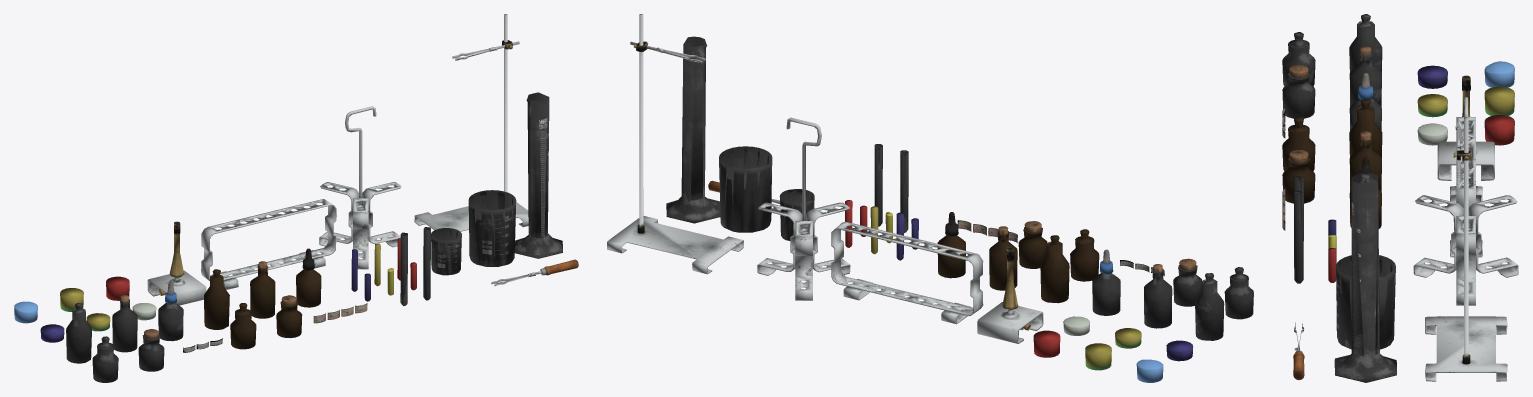
Rendered from chemistry_set.glb.
3 renders of one model, left to right at view 1: azimuth 30°, elevation 25°; view 2: azimuth 150°, elevation 25°; view 3: azimuth 270°, elevation 25°, orthographic. The views are drawn at different scales.
Parts seen in each view (by area): view 1: chemistry_set_beaker_large, chemistry_set_beaker_med, chemistry_set_test_tube_stand_b, chemistry_set_test_tube_stand_a, chemistry_set_clamp_stand, chemistry_set_bunsen_burner, chemistry_set_beaker_small, chemistry_set_bottle_clear_c, chemistry_set_bottle_dark_c, chemistry_set_bottle_clear_d, chemistry_set_bottle_dark_d, chemistry_set_bottle_clear_e (+11 smaller); view 2: chemistry_set_beaker_large, chemistry_set_clamp_stand, chemistry_set_beaker_med, chemistry_set_test_tube_stand_a, chemistry_set_test_tube_stand_b, chemistry_set_bunsen_burner, chemistry_set_bottle_clear_c, chemistry_set_bottle_dark_c, chemistry_set_bottle_clear_d, chemistry_set_bottle_dark_d, chemistry_set_bottle_clear_e, chemistry_set_bottle_clear_a (+10 smaller); view 3: chemistry_set_beaker_large, chemistry_set_clamp_stand, chemistry_set_test_tube_stand_b, chemistry_set_beaker_med, chemistry_set_bunsen_burner, chemistry_set_test_tube_stand_a, chemistry_set_bottle_clear_b, chemistry_set_bottle_clear_d, chemistry_set_bottle_dark_c, chemistry_set_bottle_clear_c, chemistry_set_bottle_dark_b, chemistry_set_test_tube_a (+16 smaller).
Part boxes in pixels (x1,y1,x2,y2): chemistry_set_beaker_large: [515, 92, 562, 258]; chemistry_set_beaker_med: [468, 190, 516, 266]; chemistry_set_test_tube_stand_b: [319, 106, 401, 269]; chemistry_set_test_tube_stand_a: [201, 199, 336, 289]; chemistry_set_clamp_stand: [414, 14, 528, 231]; chemistry_set_bunsen_burner: [147, 221, 206, 305]; chemistry_set_beaker_small: [431, 228, 461, 275]; chemistry_set_bottle_clear_c: [66, 308, 91, 363]; chemistry_set_bottle_dark_c: [204, 274, 229, 329]; chemistry_set_bottle_clear_d: [112, 299, 137, 352]; chemistry_set_bottle_dark_d: [250, 265, 275, 318]; chemistry_set_bottle_clear_e: [158, 303, 183, 341]; chemistry_set_beaker_large: [666, 36, 720, 223]; chemistry_set_clamp_stand: [607, 14, 743, 274]; chemistry_set_beaker_med: [719, 146, 772, 232]; chemistry_set_test_tube_stand_a: [831, 221, 983, 324]; chemistry_set_test_tube_stand_b: [757, 117, 850, 300]; chemistry_set_bunsen_burner: [977, 247, 1043, 343]; chemistry_set_bottle_clear_c: [1195, 279, 1224, 340]; chemistry_set_bottle_dark_c: [1040, 241, 1069, 303]; chemistry_set_bottle_clear_d: [1144, 268, 1172, 328]; chemistry_set_bottle_dark_d: [989, 231, 1017, 290]; chemistry_set_bottle_clear_e: [1092, 273, 1120, 315]; chemistry_set_bottle_clear_a: [1224, 274, 1253, 319]; chemistry_set_beaker_large: [1334, 172, 1396, 382]; chemistry_set_clamp_stand: [1425, 117, 1507, 381]; chemistry_set_test_tube_stand_b: [1413, 97, 1518, 305]; chemistry_set_beaker_med: [1335, 255, 1395, 349]; chemistry_set_bunsen_burner: [1437, 75, 1494, 180]; chemistry_set_test_tube_stand_a: [1450, 117, 1482, 257]; chemistry_set_bottle_clear_b: [1282, 72, 1315, 118]; chemistry_set_bottle_clear_d: [1349, 52, 1381, 106]; chemistry_set_bottle_dark_c: [1349, 106, 1382, 157]; chemistry_set_bottle_clear_c: [1349, 21, 1382, 72]; chemistry_set_bottle_dark_b: [1282, 157, 1315, 203]; chemistry_set_test_tube_a: [1293, 190, 1303, 283].
Size of the model in its own units: 1.08 by 0.4279 by 0.3534.
Materials: 2 (2 with a texture image).
